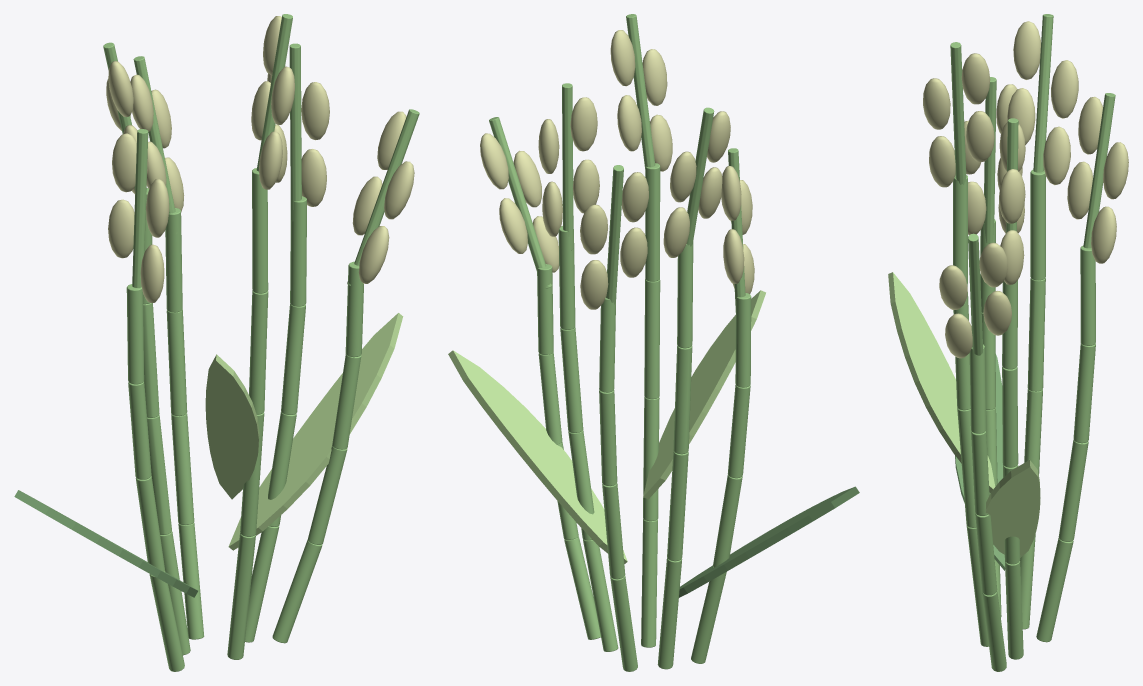
File: WF_Quaternius_Rice_RoundPass02.fbx
The picture shows the model from 3 angles, left to right: view 1: azimuth 30°, elevation 25°; view 2: azimuth 150°, elevation 25°; view 3: azimuth 270°, elevation 25°; orthographic projection. The views are drawn at different scales.
Parts seen in each view (by area): view 1: WF_RoundPass01_Rice_Leaf_1, WF_RoundPass01_Rice_Leaf_2, WF_RoundPass01_Rice_Stem_2_1, WF_RoundPass01_Rice_Leaf_0, WF_RoundPass01_Rice_Stem_2_3, WF_RoundPass01_Rice_Stem_3_3, WF_RoundPass01_Rice_Stem_5_2, WF_RoundPass01_Rice_Stem_2_4, WF_RoundPass01_Rice_Stem_5_1, WF_RoundPass01_Rice_Panicle_0_axis, WF_RoundPass01_Rice_Panicle_3_axis, WF_RoundPass01_Rice_Stem_3_4 (+37 smaller); view 2: WF_RoundPass01_Rice_Leaf_1, WF_RoundPass01_Rice_Leaf_2, WF_RoundPass01_Rice_Leaf_0, WF_RoundPass01_Rice_Stem_2_1, WF_RoundPass01_Rice_Stem_2_3, WF_RoundPass01_Rice_Stem_3_1, WF_RoundPass01_Rice_Stem_1_1, WF_RoundPass01_Rice_Stem_1_2, WF_RoundPass01_Rice_Panicle_3_axis, WF_RoundPass01_Rice_Stem_1_3, WF_RoundPass01_Rice_Stem_3_3, WF_RoundPass01_Rice_Stem_2_4 (+42 smaller); view 3: WF_RoundPass01_Rice_Leaf_2, WF_RoundPass01_Rice_Leaf_1, WF_RoundPass01_Rice_Stem_1_3, WF_RoundPass01_Rice_Panicle_1_axis, WF_RoundPass01_Rice_Stem_1_4, WF_RoundPass01_Rice_Stem_5_1, WF_RoundPass01_Rice_Panicle_5_axis, WF_RoundPass01_Rice_Stem_5_2, WF_RoundPass01_Rice_Panicle_2_axis, WF_RoundPass01_Rice_Stem_3_3, WF_RoundPass01_Rice_Stem_5_3, WF_RoundPass01_Rice_Stem_3_1 (+41 smaller).
Part boxes in pixels (left/top/right/bottom): WF_RoundPass01_Rice_Leaf_1: left=228, top=313, right=403, bottom=550; WF_RoundPass01_Rice_Leaf_2: left=205, top=354, right=259, bottom=499; WF_RoundPass01_Rice_Stem_2_1: left=227, top=533, right=255, bottom=659; WF_RoundPass01_Rice_Leaf_0: left=14, top=490, right=197, bottom=597; WF_RoundPass01_Rice_Stem_2_3: left=249, top=290, right=268, bottom=414; WF_RoundPass01_Rice_Stem_3_3: left=281, top=303, right=305, bottom=414; WF_RoundPass01_Rice_Stem_5_2: left=171, top=413, right=194, bottom=524; WF_RoundPass01_Rice_Stem_2_4: left=252, top=168, right=268, bottom=293; WF_RoundPass01_Rice_Stem_5_1: left=178, top=523, right=204, bottom=639; WF_RoundPass01_Rice_Panicle_0_axis: left=132, top=129, right=148, bottom=287; WF_RoundPass01_Rice_Panicle_3_axis: left=289, top=43, right=301, bottom=221; WF_RoundPass01_Rice_Stem_3_4: left=290, top=196, right=306, bottom=306; WF_RoundPass01_Rice_Leaf_1: left=448, top=350, right=627, bottom=563; WF_RoundPass01_Rice_Leaf_2: left=643, top=290, right=765, bottom=499; WF_RoundPass01_Rice_Leaf_0: left=679, top=486, right=859, bottom=597; WF_RoundPass01_Rice_Stem_2_1: left=641, top=519, right=657, bottom=647; WF_RoundPass01_Rice_Stem_2_3: left=644, top=279, right=660, bottom=399; WF_RoundPass01_Rice_Stem_3_1: left=583, top=539, right=618, bottom=651; WF_RoundPass01_Rice_Stem_1_1: left=657, top=558, right=682, bottom=669; WF_RoundPass01_Rice_Stem_1_2: left=667, top=451, right=688, bottom=561; WF_RoundPass01_Rice_Panicle_3_axis: left=562, top=83, right=573, bottom=250; WF_RoundPass01_Rice_Stem_1_3: left=673, top=345, right=692, bottom=454; WF_RoundPass01_Rice_Stem_3_3: left=560, top=327, right=583, bottom=432; WF_RoundPass01_Rice_Stem_2_4: left=645, top=163, right=660, bottom=281; WF_RoundPass01_Rice_Leaf_2: left=888, top=272, right=995, bottom=492; WF_RoundPass01_Rice_Leaf_1: left=985, top=460, right=1040, bottom=557; WF_RoundPass01_Rice_Stem_1_3: left=1027, top=278, right=1045, bottom=391; WF_RoundPass01_Rice_Panicle_1_axis: left=1033, top=14, right=1053, bottom=172; WF_RoundPass01_Rice_Stem_1_4: left=1030, top=170, right=1045, bottom=280; WF_RoundPass01_Rice_Stem_5_1: left=1036, top=538, right=1073, bottom=642; WF_RoundPass01_Rice_Panicle_5_axis: left=1083, top=93, right=1115, bottom=248; WF_RoundPass01_Rice_Stem_5_2: left=1058, top=440, right=1088, bottom=541; WF_RoundPass01_Rice_Panicle_2_axis: left=950, top=42, right=966, bottom=184; WF_RoundPass01_Rice_Stem_3_3: left=1002, top=366, right=1018, bottom=467; WF_RoundPass01_Rice_Stem_5_3: left=1073, top=343, right=1095, bottom=443; WF_RoundPass01_Rice_Stem_3_1: left=1005, top=561, right=1023, bottom=659.
Size of the model in its own units: 82.03 by 123 by 43.47.
